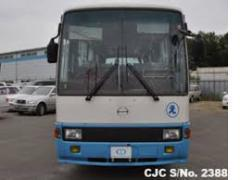bus: (49, 0, 201, 165)
